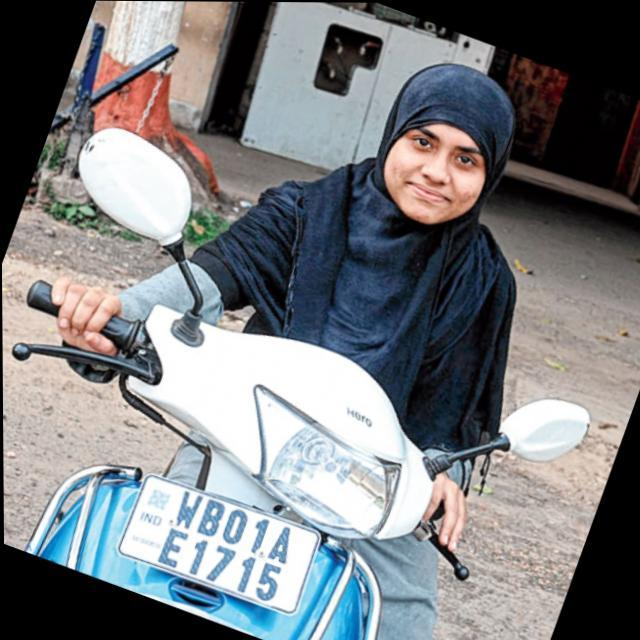Nonhelmet: (373, 61, 517, 229)
